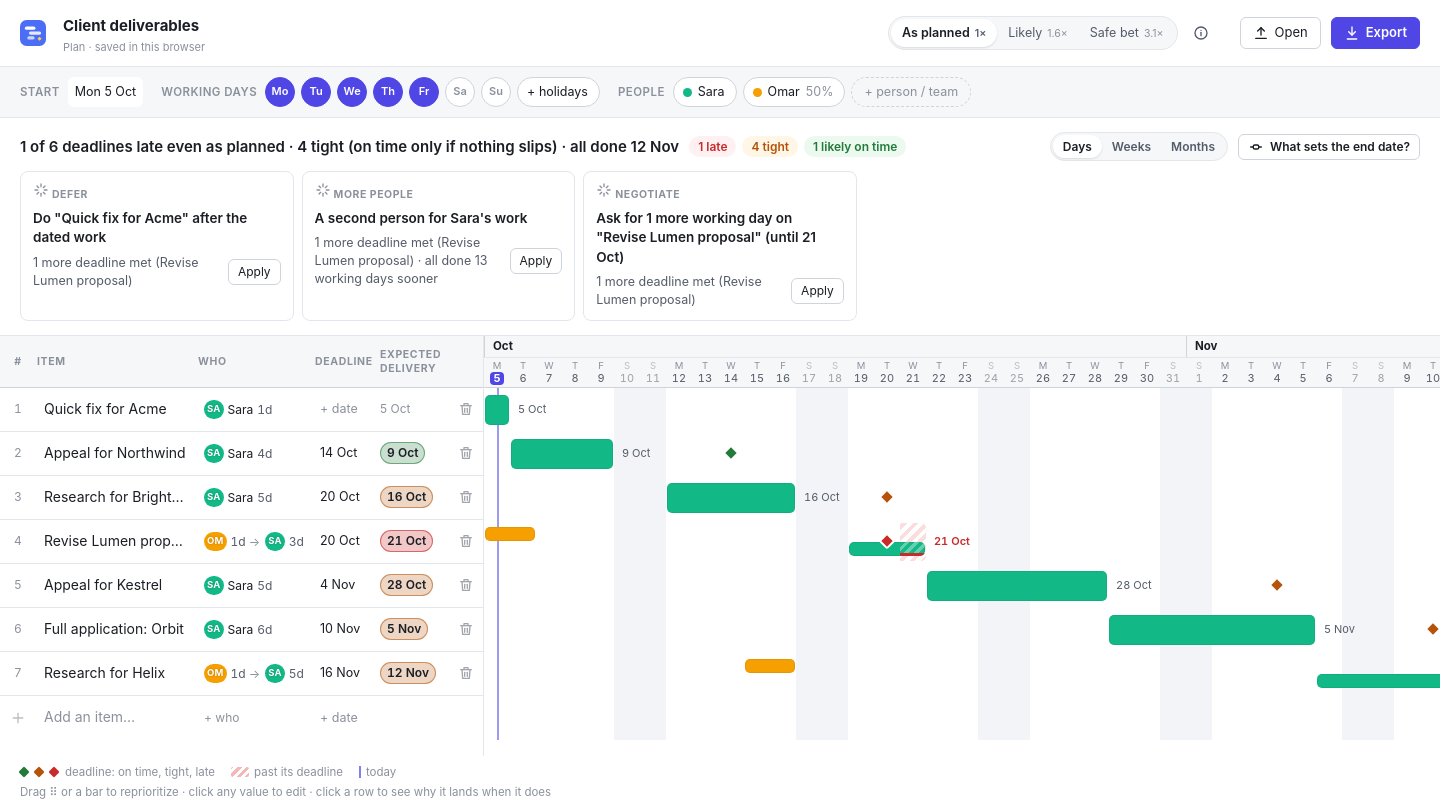
Scenario: people, deleting and the details pane › deleting an item asks first; Cancel keeps it, Delete removes it
The image size is (1440, 810).
Click the 1st button with class "row-del": (466, 409) [455,398,477,420]
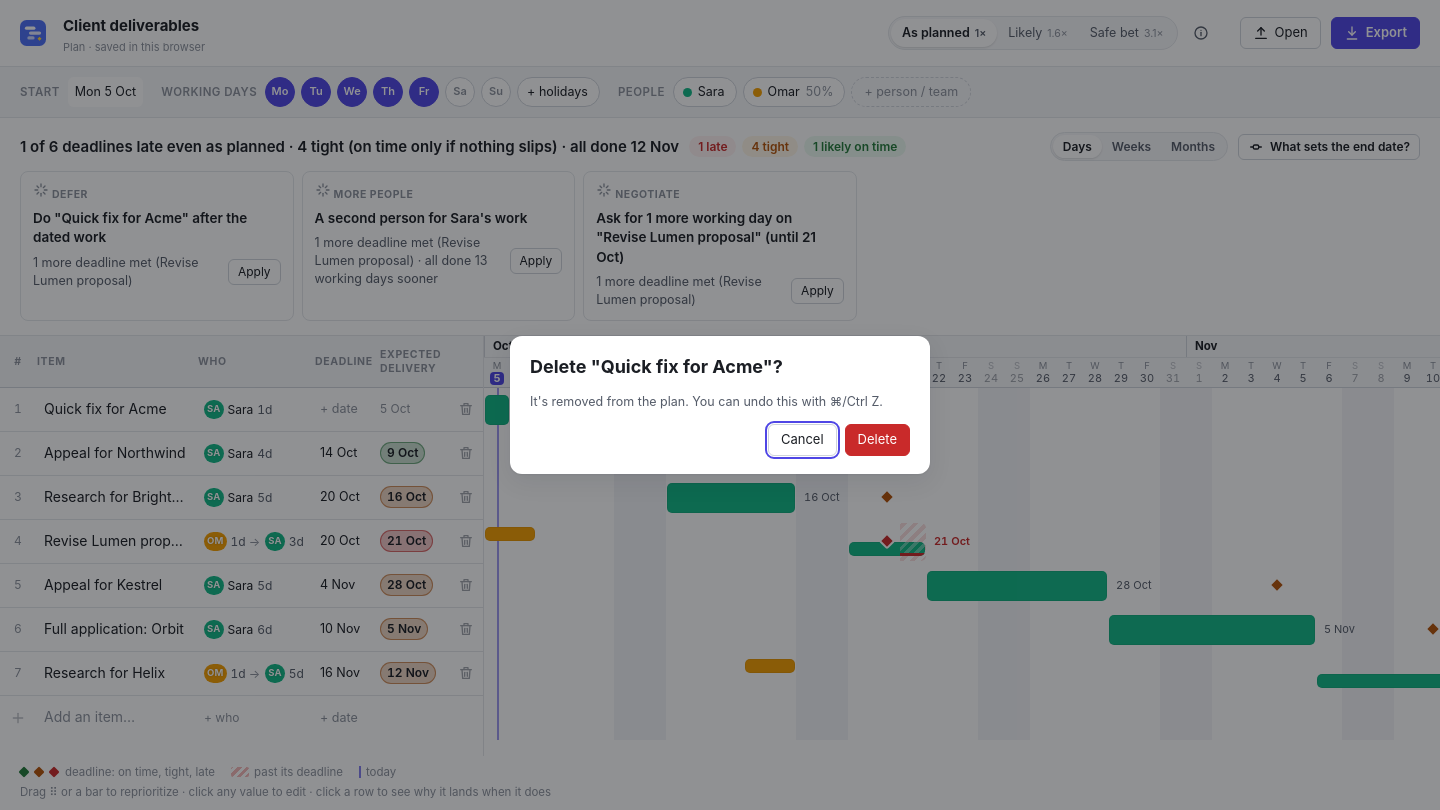
Now the heading "Delete \"Quick fix for Acme\"?" reads "Delete \"Quick fix for Acme\"?", box [530,356,783,377]
Click the button "Cancel": (802, 440) [768,424,837,456]
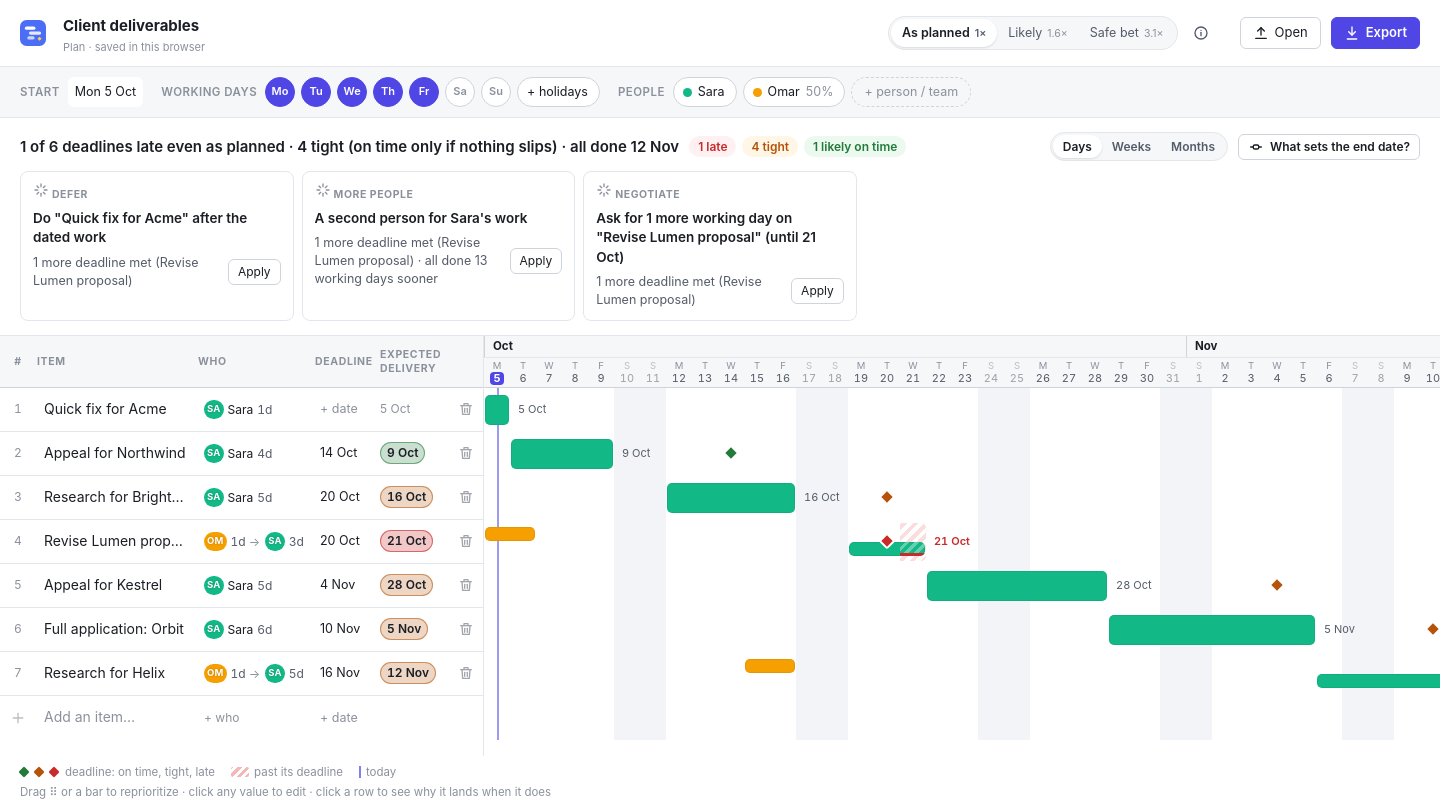
Now the dialog with class "confirm" is gone
Click the button named "Delete Quick fix for Acme": (466, 409) [455,398,477,420]
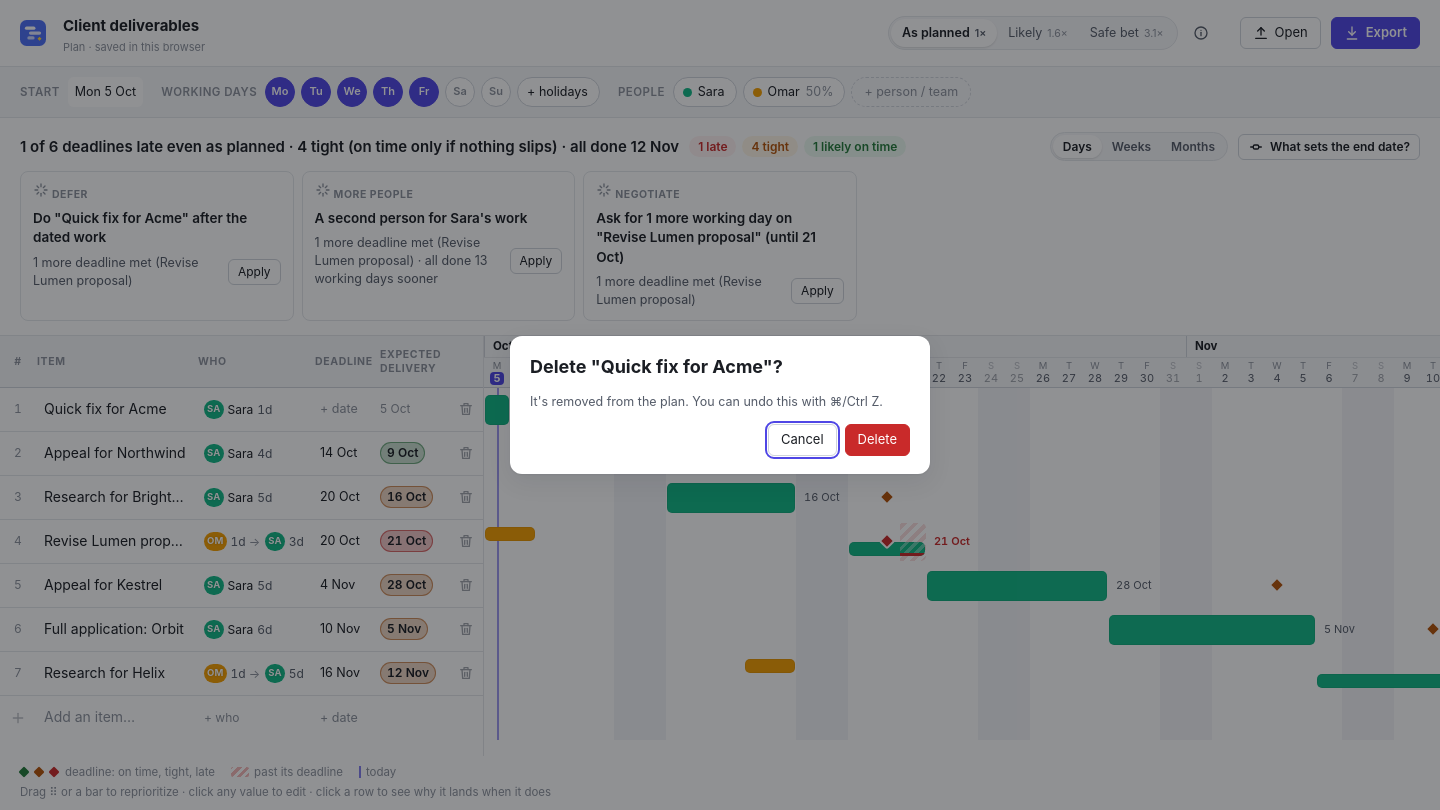
Click the button with class "danger": (877, 440) [845,424,910,456]
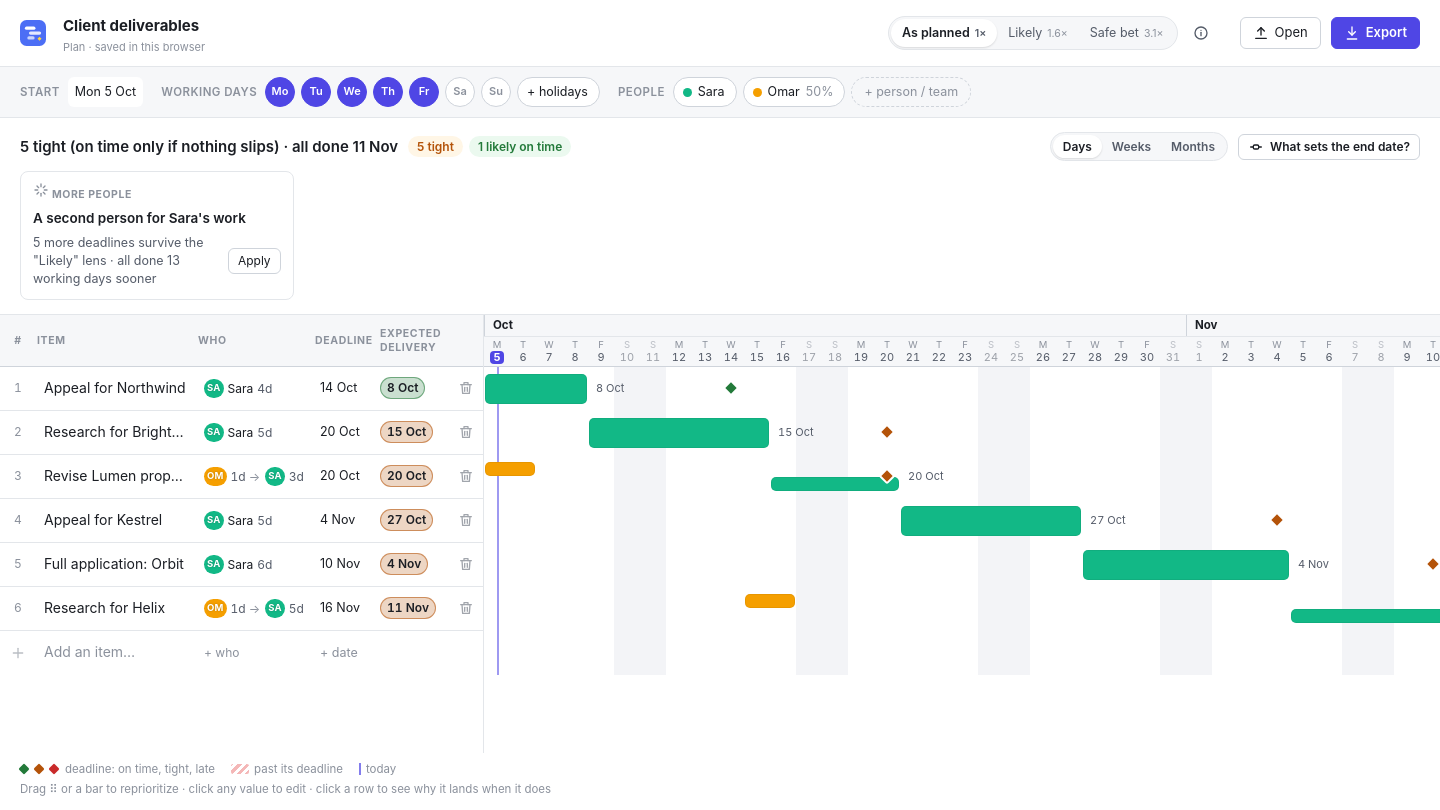
Now the number of list items is 6, box [0,367,483,411]; [0,411,483,455]; [0,455,483,499]; [0,499,483,543]; [0,543,483,587]; [0,587,483,631]
Now the text "Quick fix for Acme" is gone
